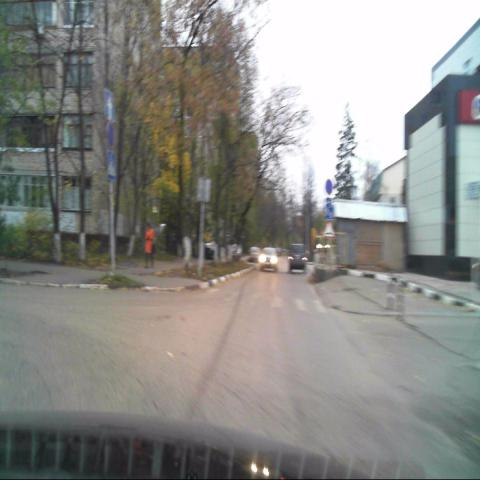5_5: (105, 89, 114, 122)
